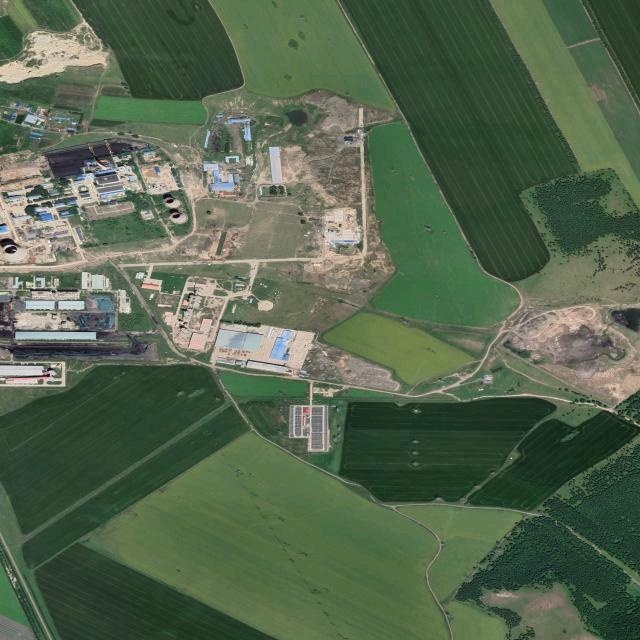coal_fired_power_plant: (0, 134, 191, 263)
